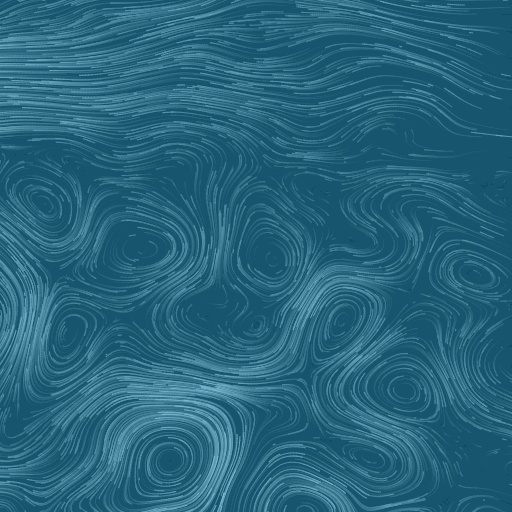eddy: (119, 412, 222, 507), (232, 206, 309, 299), (362, 351, 445, 425), (34, 296, 102, 378), (101, 216, 181, 276), (7, 175, 79, 236), (436, 247, 509, 306), (314, 295, 370, 356), (340, 439, 403, 483), (240, 310, 269, 342)
